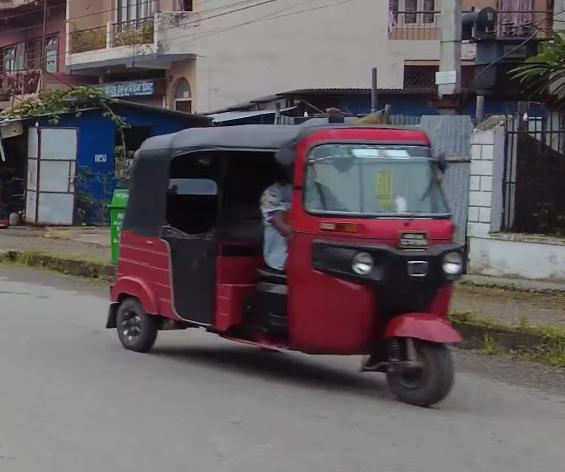auto_rickshaw: (109, 115, 471, 404)
